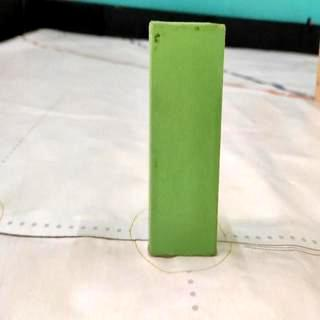greenbox: (148, 22, 220, 258)
